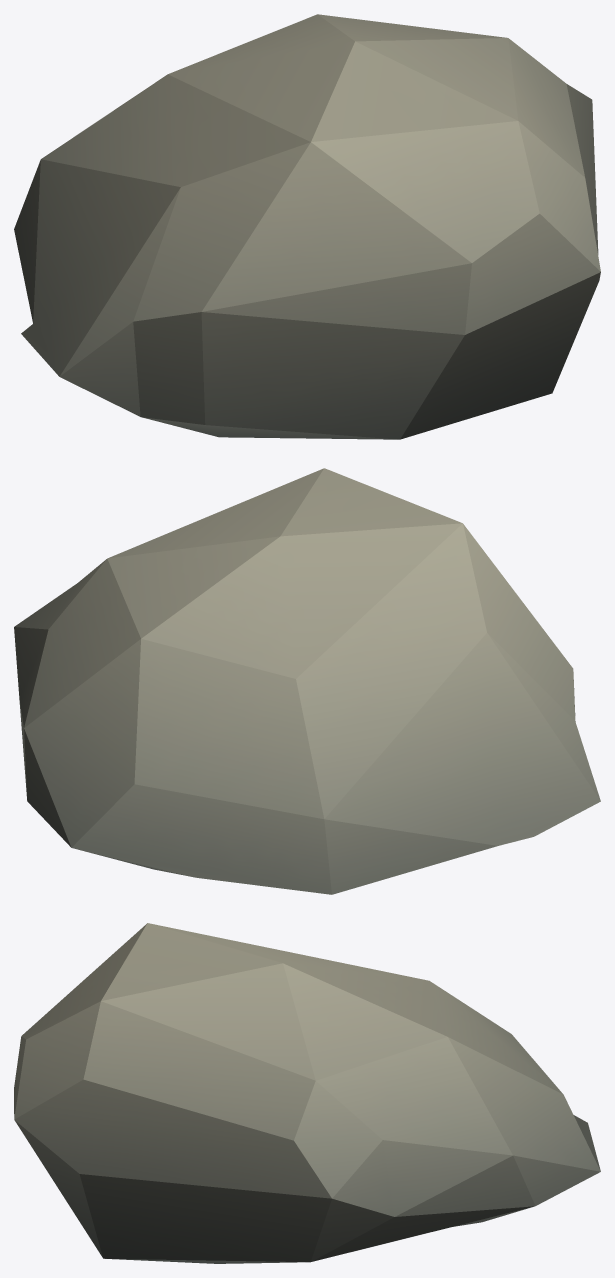
Rendered from rock_1_02.fbx.
The picture shows the model from 3 angles, top to bottom: view 1: azimuth 30°, elevation 25°; view 2: azimuth 150°, elevation 25°; view 3: azimuth 270°, elevation 25°; orthographic projection. The views are drawn at different scales.
Parts seen in each view (by area): view 1: rock_1_02; view 2: rock_1_02; view 3: rock_1_02.
Part boxes in pixels (x1,y1,x2,y2): rock_1_02: (14,14,600,439); rock_1_02: (14,468,600,894); rock_1_02: (14,923,600,1263).
Size of the model in its own units: 18.01 by 9.9 by 18.02.
